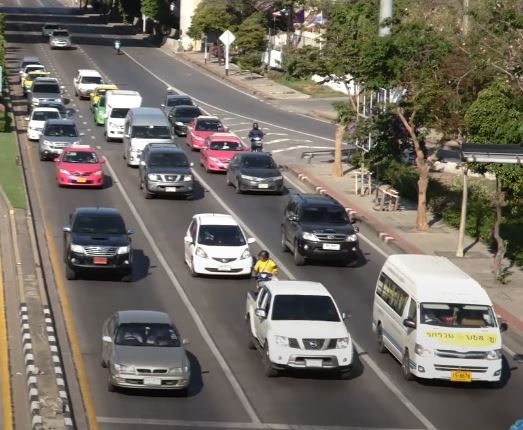Car: (244, 279, 354, 380), (99, 308, 192, 390), (278, 192, 360, 266), (62, 205, 135, 283), (183, 210, 256, 278), (122, 108, 178, 168), (138, 143, 194, 195), (225, 150, 284, 195), (53, 144, 106, 189), (105, 89, 142, 142), (39, 119, 83, 161), (200, 132, 244, 171), (187, 115, 227, 153), (27, 106, 62, 140), (169, 105, 204, 136), (72, 67, 105, 99), (28, 78, 62, 107), (48, 28, 72, 50)
Motorcycle: (251, 249, 277, 287), (247, 120, 266, 152), (112, 37, 123, 56)
